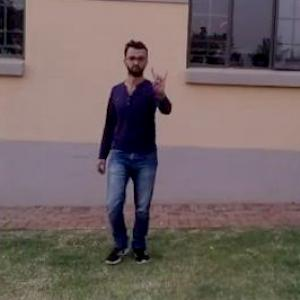takeoff-hand: (143, 58, 174, 99)
